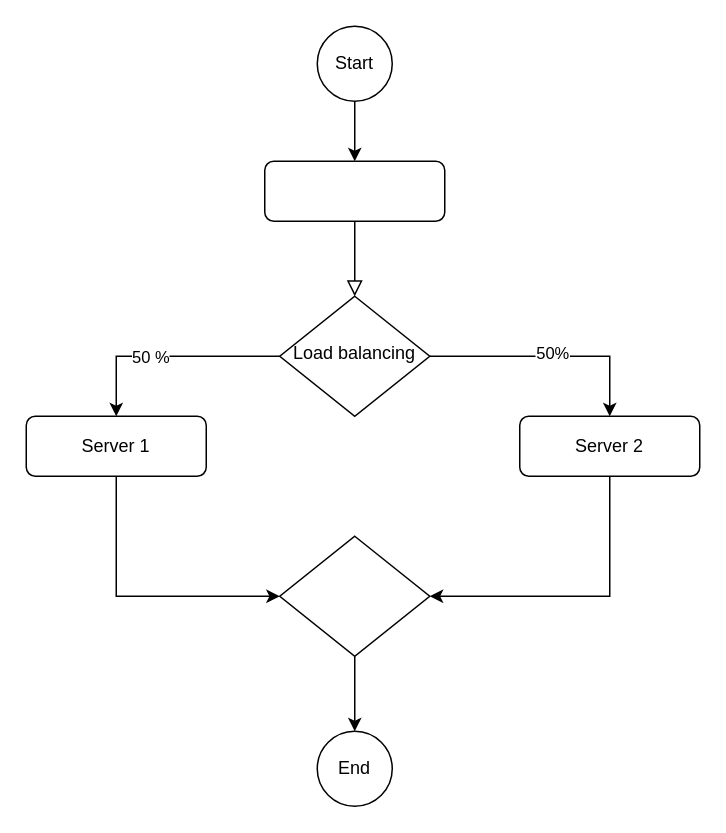
This 726x833 diagram has some shape labels left out. The shapes that lost their labels are listed below. From the top down, each one's centre as x and y in pixels, then its label:
At point (354, 190): "HTTP async request".
At point (354, 595): "Request completed".
